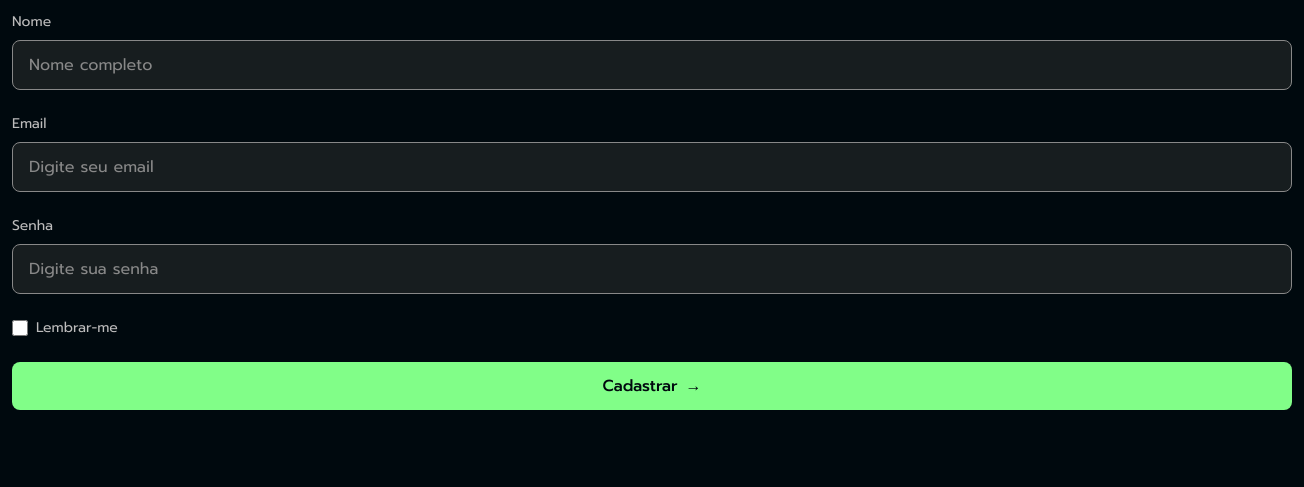
Scenario: RegisterForm › flags a malformed email
Type "Ana" into the field labelled "Nome" at (652,65), box [12,40,1292,90]
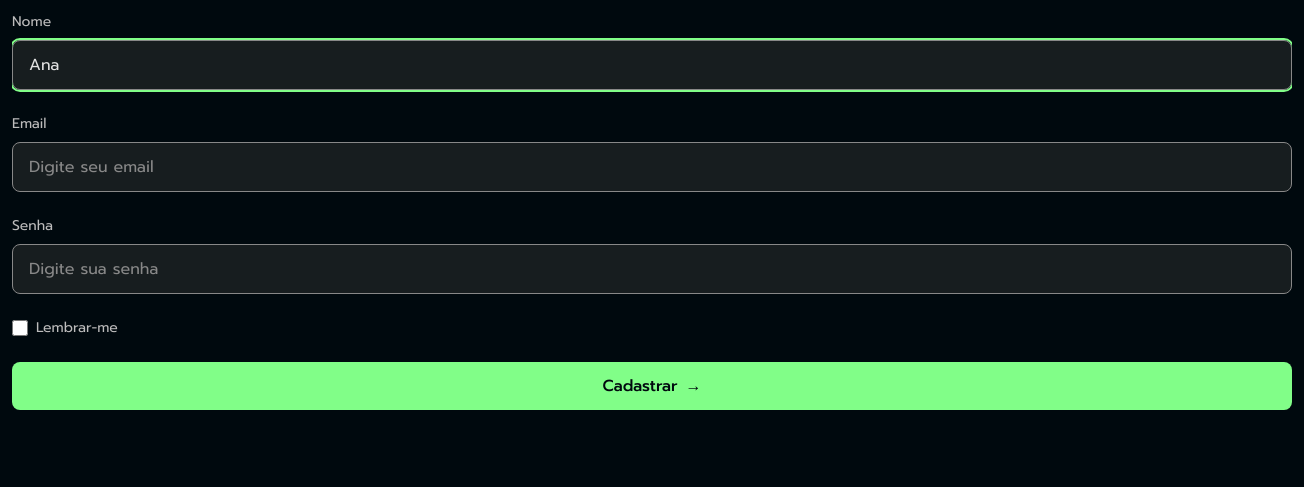
Type "ana@code" into the field labelled "Email" at (652,167), box [12,142,1292,192]
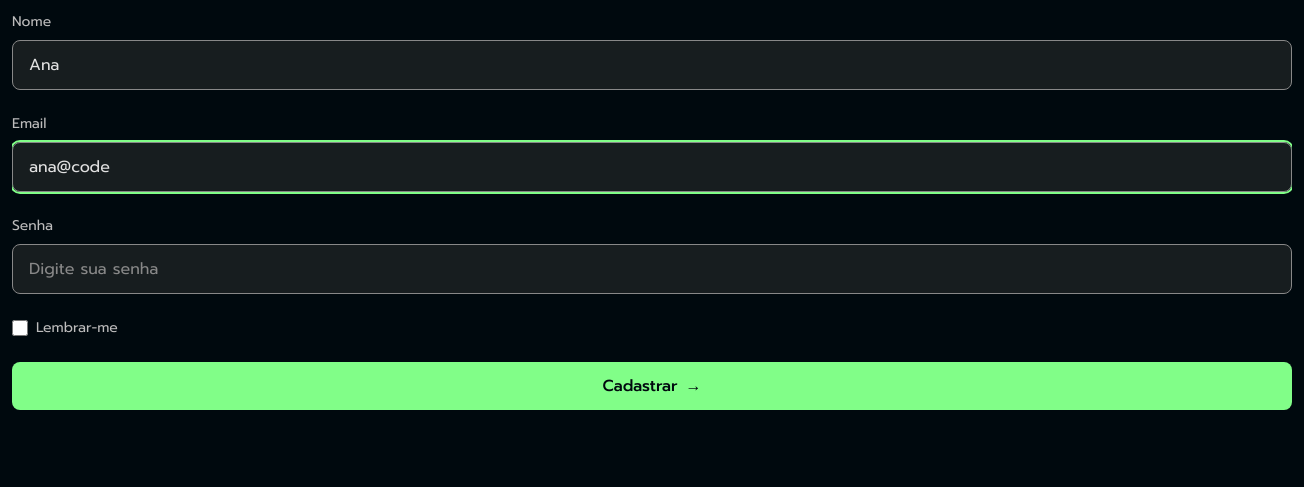
Type "segredo" into the password field labelled "Senha" at (652,269), box [12,244,1292,294]
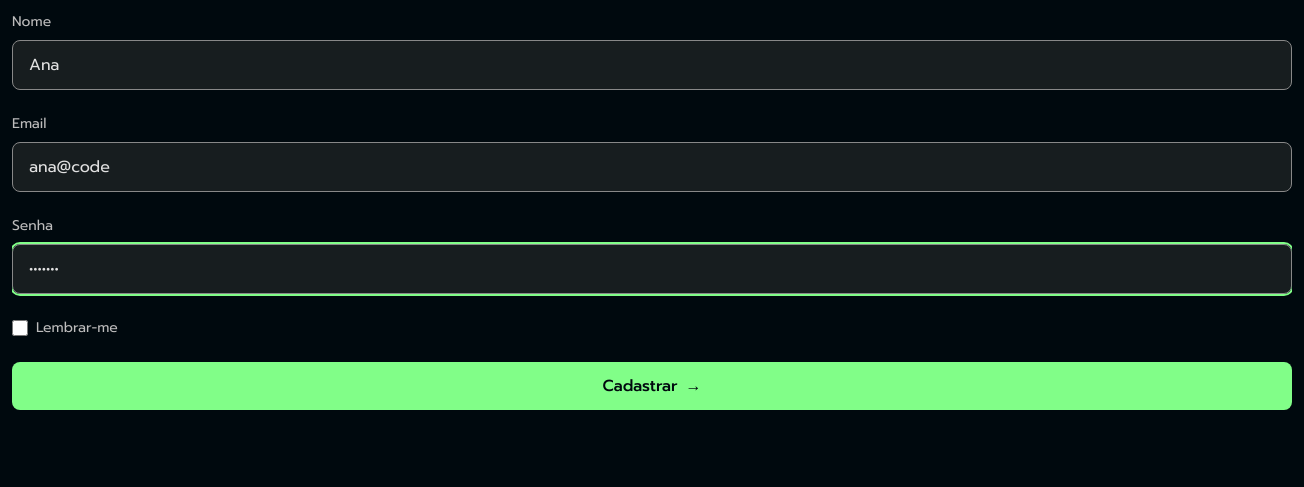
Click the button "Cadastrar →" at (652,386), box [12,362,1292,410]
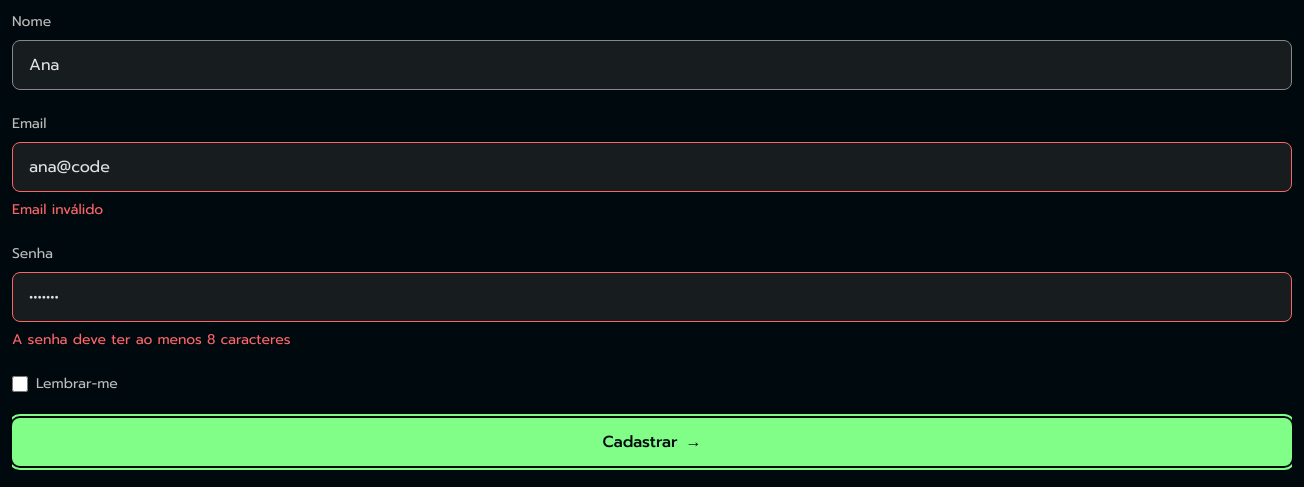
Check: the text "Email inválido" is shown, box [12,199,103,220]
